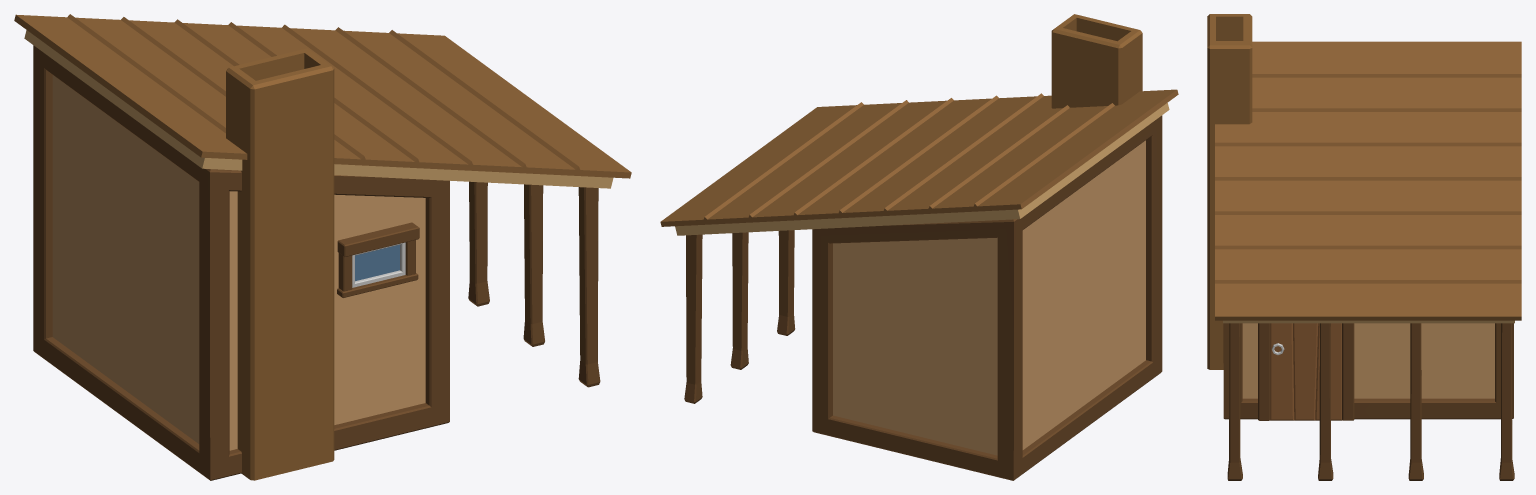
File: littlehouse_b.gltf
The picture shows the model from 3 angles, left to right: view 1: azimuth 30°, elevation 25°; view 2: azimuth 150°, elevation 25°; view 3: azimuth 270°, elevation 25°; orthographic projection. The views are drawn at different scales.
Parts seen in each view (by area): view 1: littlehouse_b001, Shape011, Box943, Shape010; view 2: littlehouse_b001, Shape011, Box943, Shape010; view 3: Shape011, littlehouse_b001, Box943, Shape010.
Boxes of the visible parts, x1,y1,x2,y2 form: littlehouse_b001: [33, 45, 600, 480]; Shape011: [14, 14, 631, 178]; Box943: [226, 48, 334, 480]; Shape010: [24, 30, 613, 188]; littlehouse_b001: [684, 115, 1162, 480]; Shape011: [660, 89, 1178, 226]; Box943: [1051, 14, 1142, 108]; Shape010: [675, 103, 1169, 235]; Shape011: [1215, 41, 1521, 320]; littlehouse_b001: [1223, 323, 1514, 480]; Box943: [1207, 14, 1252, 369]; Shape010: [1223, 320, 1514, 323].
Bounding box in the file's own units: 3.83 × 3.36 × 2.95.
Materials: 1 (1 with a texture image).
